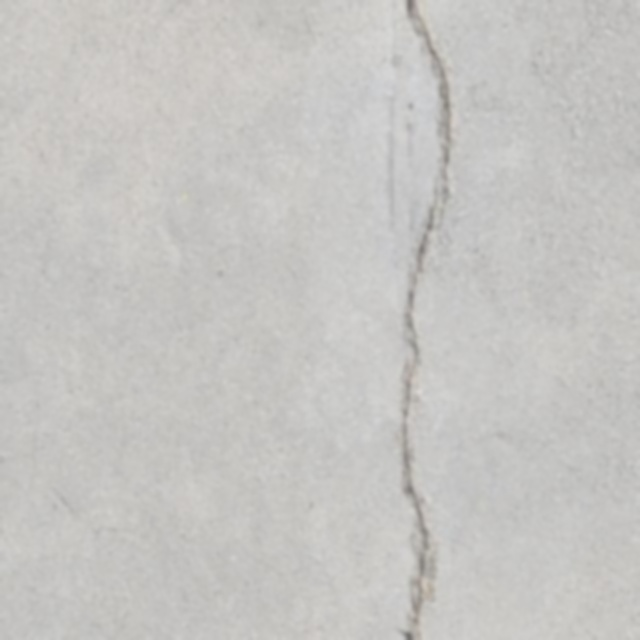SurfaceCrack: (345, 0, 492, 639)
